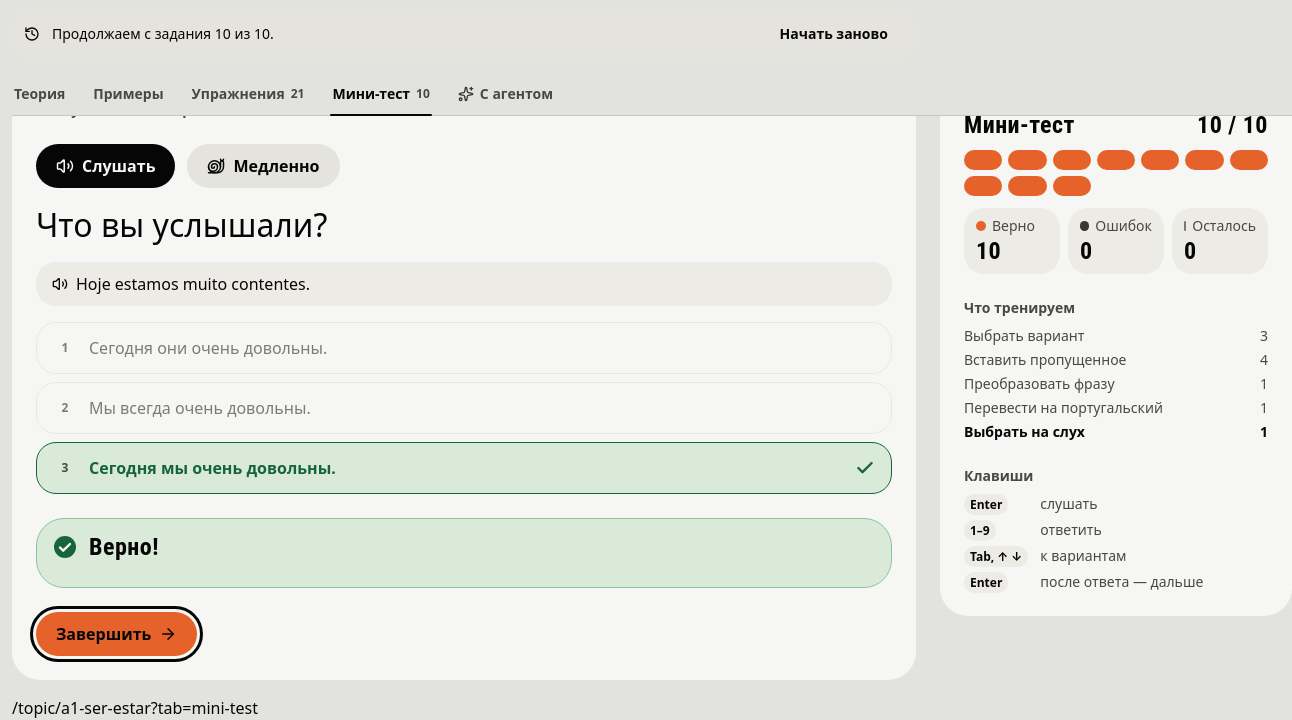
Test: TopicPage: practice (PracticeSection + ResultScreen) › mini-test after the lesson, good score → «Следующая тема: …» link
(page scrolled)
Click the button "Завершить": (117, 634) [36,612,197,656]
(page scrolled)
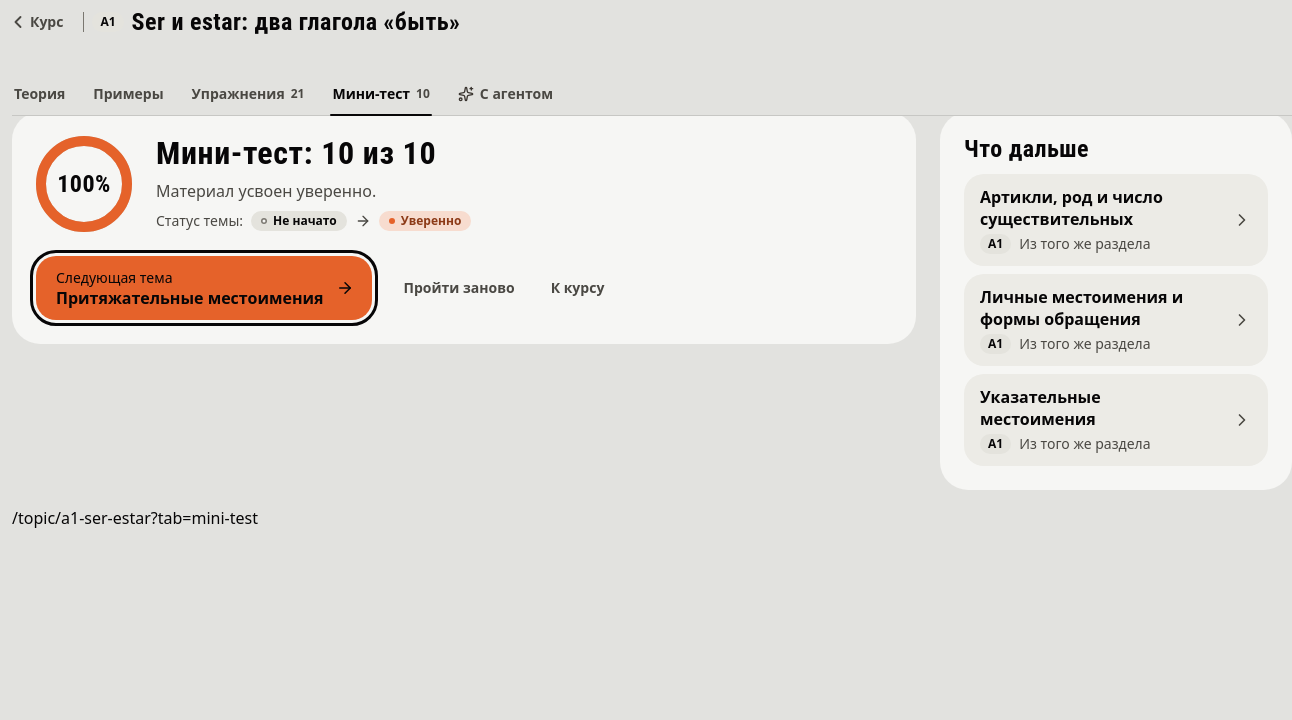
Expected: the heading "Мини-тест: 10 из 10" is shown, [156,137,471,171]
Expected: the element "Что дальше" is shown, [940,112,1291,490]
